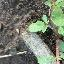Purslane: (9, 0, 64, 64)
